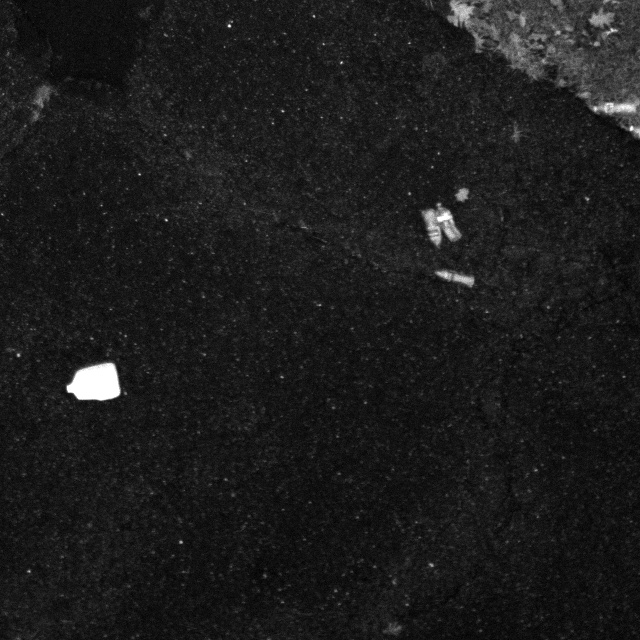bottle: (589, 93, 637, 127), (434, 197, 466, 244), (420, 203, 443, 250), (432, 271, 481, 288)
can: (63, 361, 124, 407)
